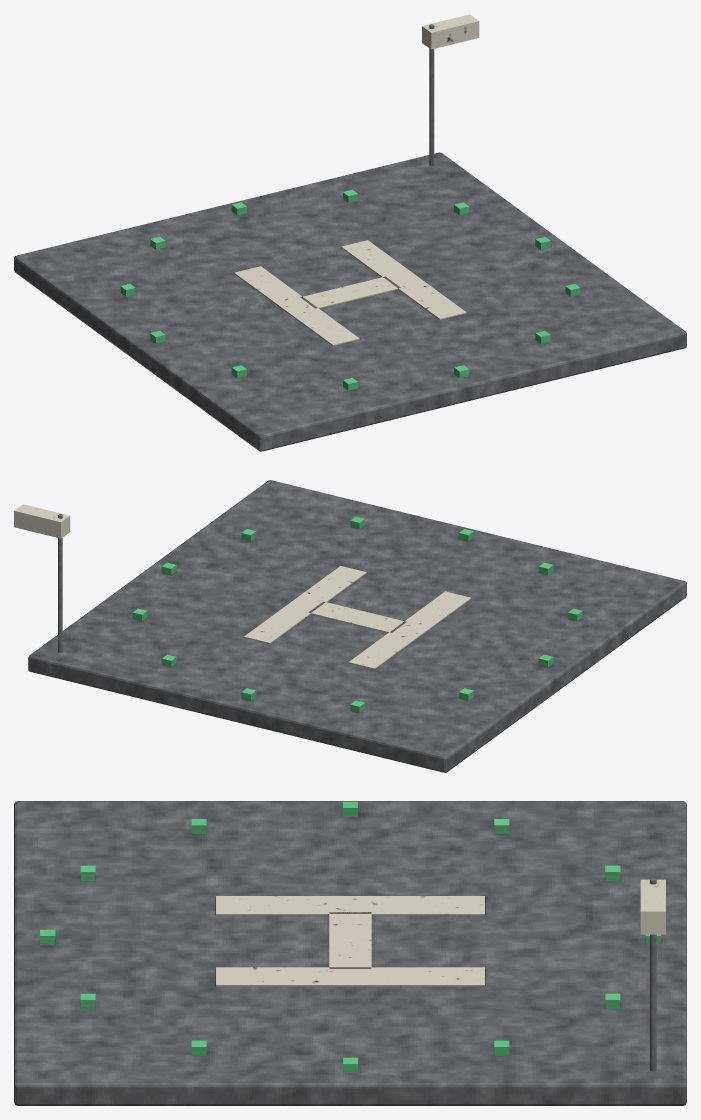
File: city_helipad.glb
3 renders of one model, top to bottom at view 1: azimuth 30°, elevation 25°; view 2: azimuth 150°, elevation 25°; view 3: azimuth 270°, elevation 25°, orthographic. The views are drawn at different scales.
Visible parts, largest first — view 1: city_helipad; view 2: city_helipad; view 3: city_helipad.
Boxes of the visible parts, x1,y1,x2,y2 form: city_helipad: (14,14,686,451); city_helipad: (14,480,686,772); city_helipad: (14,801,686,1105).
Bounding box in the file's own units: 8.4 × 2.8 × 8.
Materials: 4 (4 with a texture image).
